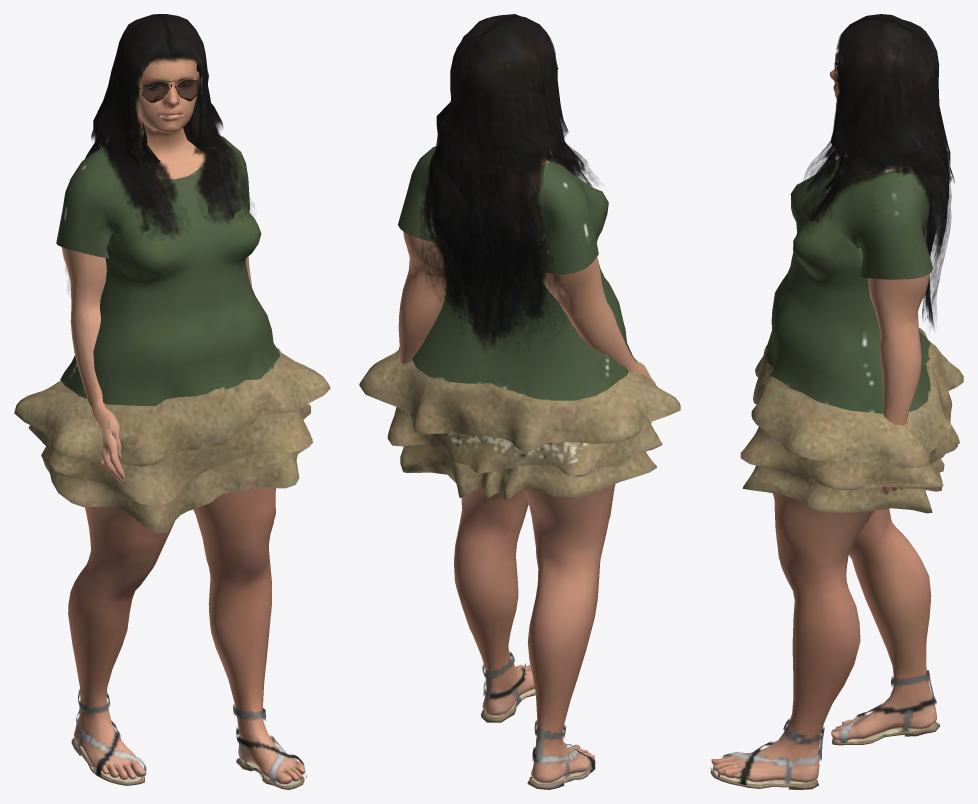
3 renders of one model, left to right at view 1: azimuth 30°, elevation 25°; view 2: azimuth 150°, elevation 25°; view 3: azimuth 270°, elevation 25°, orthographic.
Parts seen in each view (by area): view 1: p01602; view 2: p01602; view 3: p01602.
Part boxes in pixels (x1=…): p01602: x1=14, y1=14, x2=330, y2=789; p01602: x1=359, y1=14, x2=680, y2=789; p01602: x1=710, y1=14, x2=963, y2=789.
Size of the model in its own units: 0.635 by 1.65 by 0.51.
Materials: 1 (1 with a texture image).
